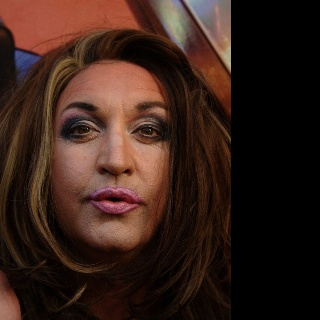without_mask: (50, 57, 181, 257)
